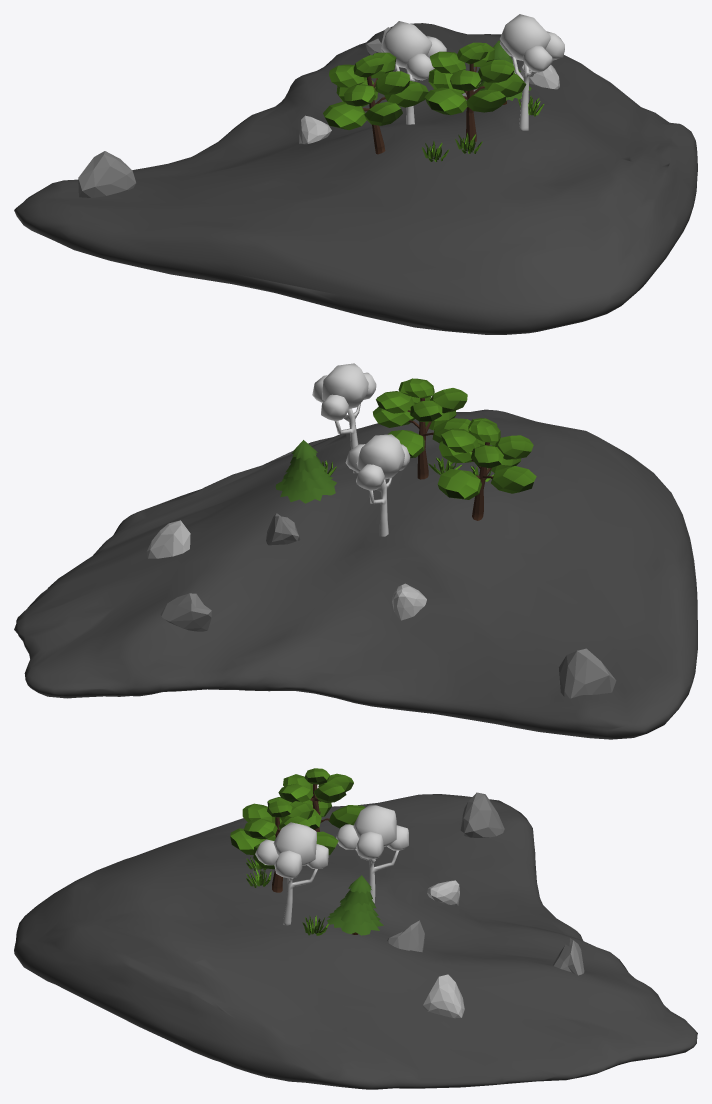
File: Saari4.fbx
3 views of the same model, one above another, from view 1: azimuth 30°, elevation 25°; view 2: azimuth 150°, elevation 25°; view 3: azimuth 270°, elevation 25° (orthographic). The views are drawn at different scales.
Parts seen in each view (by area): view 1: Icosphere.004, Icosphere.012; view 2: Icosphere.004, Icosphere.012; view 3: Icosphere.004, Icosphere.012.
Boxes of the visible parts, left/top/right/bottom form: Icosphere.004: left=14, top=23, right=697, bottom=334; Icosphere.012: left=78, top=14, right=564, bottom=197; Icosphere.004: left=14, top=409, right=697, bottom=739; Icosphere.012: left=146, top=363, right=616, bottom=698; Icosphere.004: left=14, top=794, right=697, bottom=1089; Icosphere.012: left=230, top=768, right=584, bottom=1018.
Size of the model in its own units: 6389 by 2031 by 6640.
